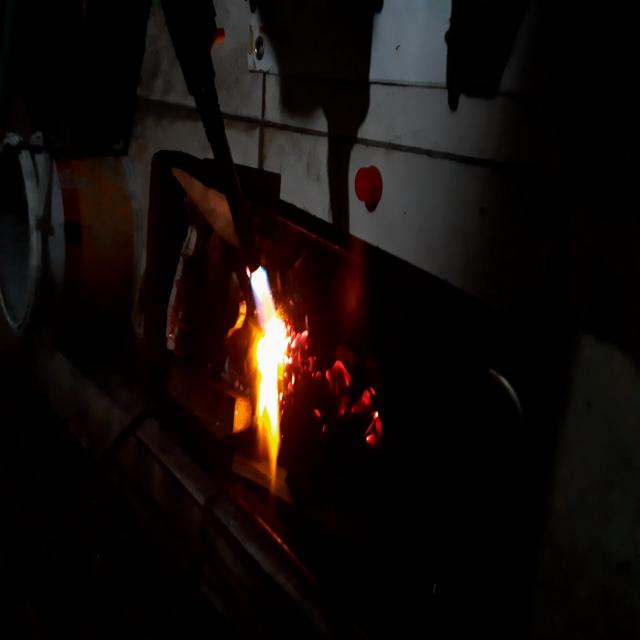Fire: (238, 249, 294, 494), (300, 332, 382, 472)
